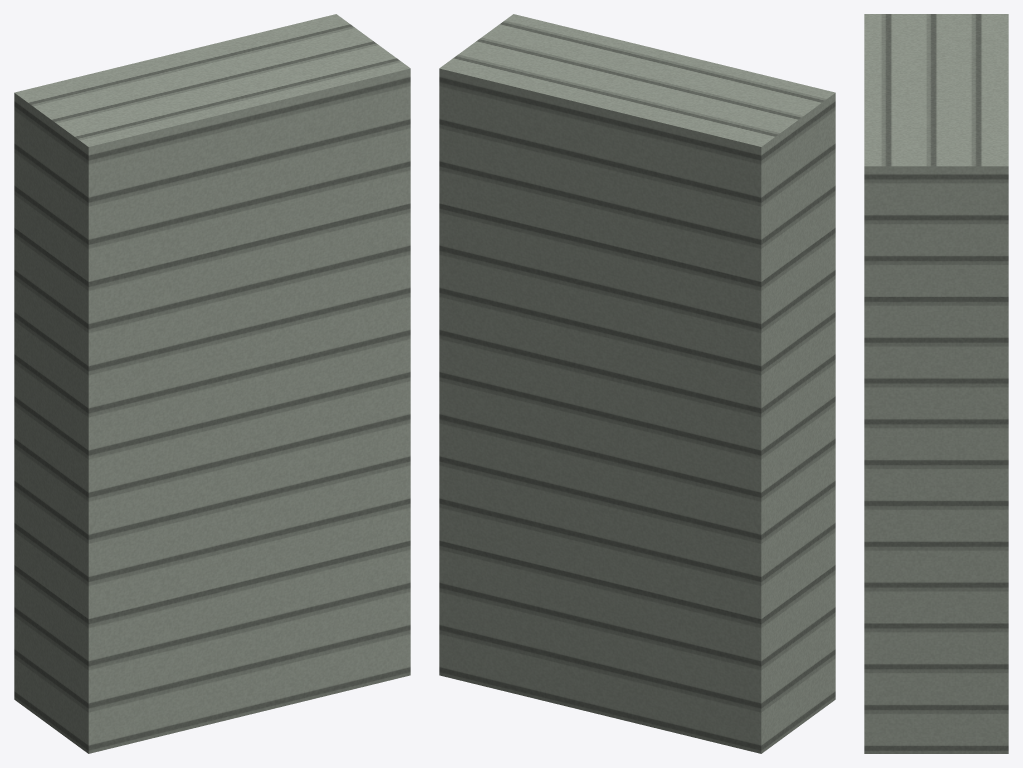
Rendered from film_reel_storage_rack.glb.
3 views of the same model, side by side, from view 1: azimuth 30°, elevation 25°; view 2: azimuth 150°, elevation 25°; view 3: azimuth 270°, elevation 25° (orthographic). The views are drawn at different scales.
Visible parts, largest first — view 1: film_reel_storage_rack-col; view 2: film_reel_storage_rack-col; view 3: film_reel_storage_rack-col.
Boxes of the visible parts, <box> form: film_reel_storage_rack-col: <box>14,14,410,753</box>; film_reel_storage_rack-col: <box>439,14,835,753</box>; film_reel_storage_rack-col: <box>864,14,1008,753</box>.
Size of the model in its own units: 1 by 1.8 by 0.4.
Materials: 1 (1 with a texture image).
